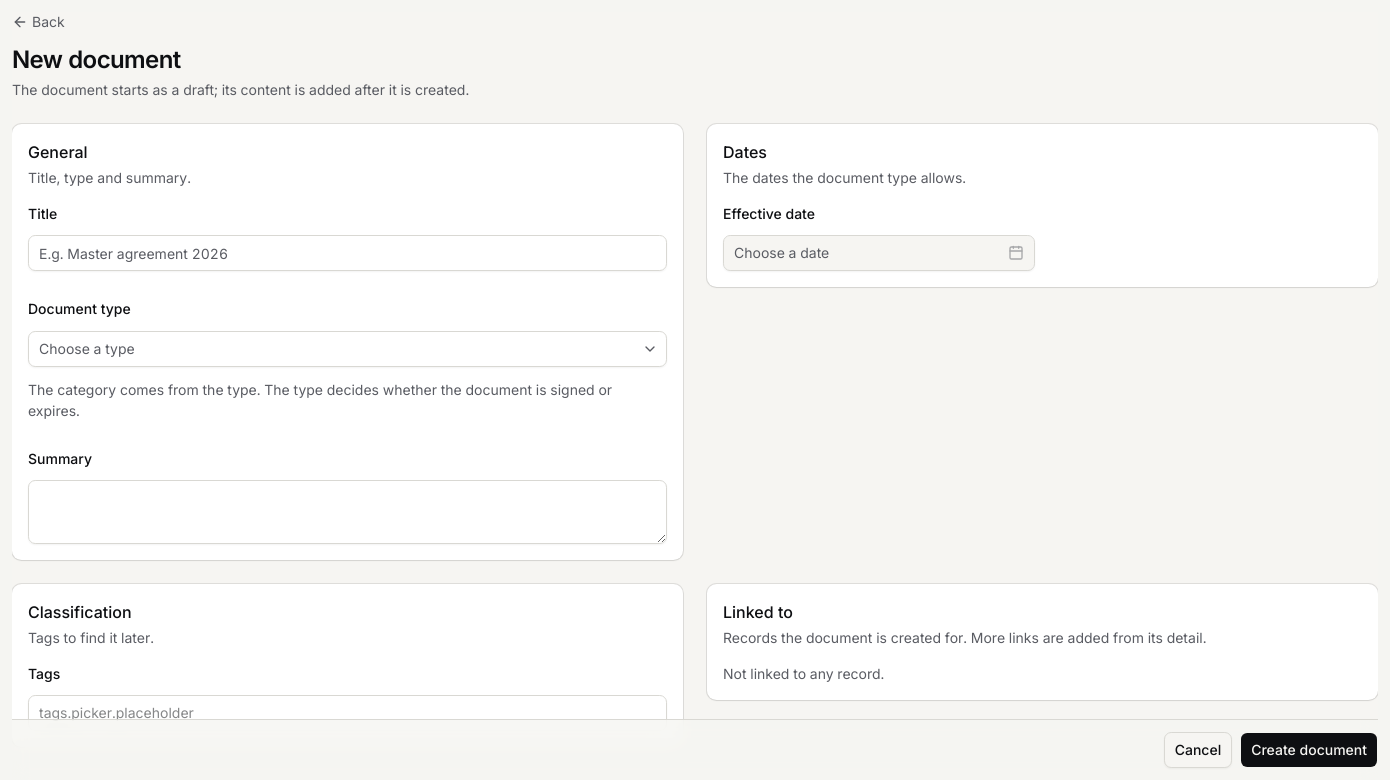
Test case: DocumentForm, create › offers only active types
The width and height of the screenshot is (1390, 780).
Step 1. Click the dropdown named "Document type" → (87, 348), box [28, 330, 667, 366]
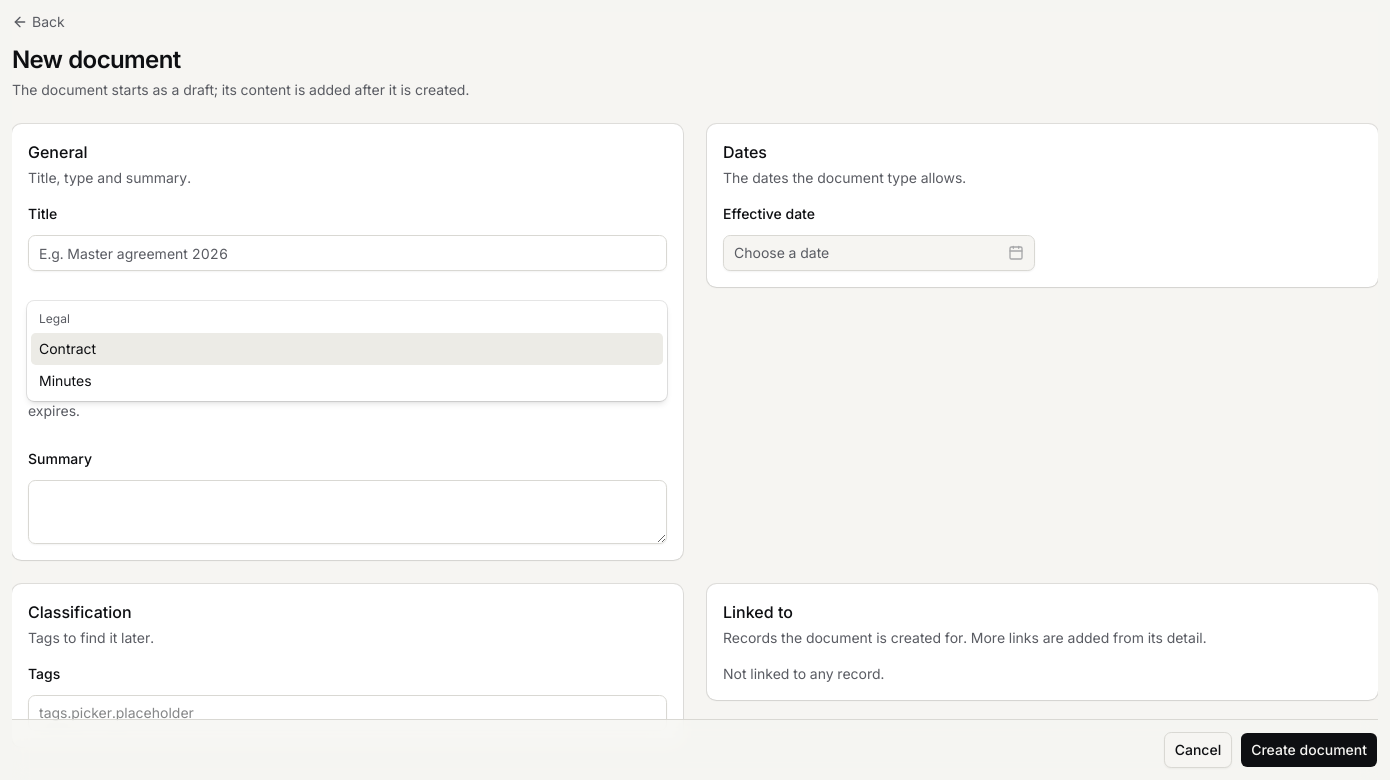
Now the option "Contract" is shown, box [31, 332, 663, 364]
